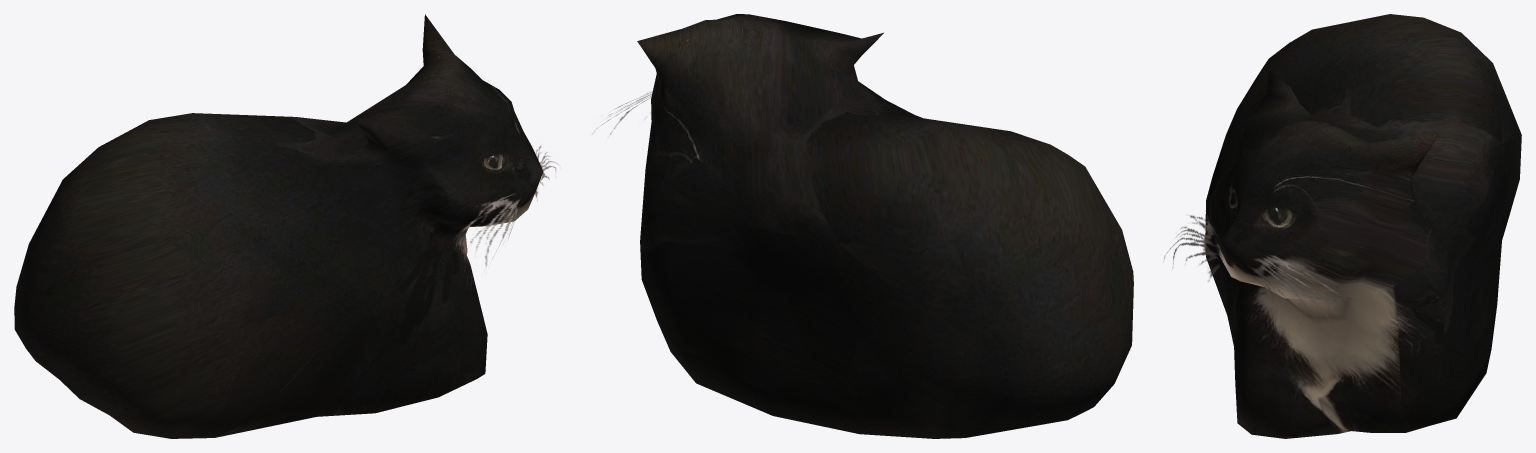
The model's file is Dingus.glb.
3 views of the same model, side by side, from view 1: azimuth 30°, elevation 25°; view 2: azimuth 150°, elevation 25°; view 3: azimuth 270°, elevation 25° (orthographic). The views are drawn at different scales.
Visible parts, largest first — view 1: Dingus; view 2: Dingus; view 3: Dingus.
Part boxes in pixels (x1,y1,x2,y2): Dingus: [14, 14, 559, 438]; Dingus: [592, 14, 1133, 438]; Dingus: [1164, 14, 1521, 438].
Size of the model in its own units: 3.32 by 1.92 by 1.87.
2 materials, 2 textured.
